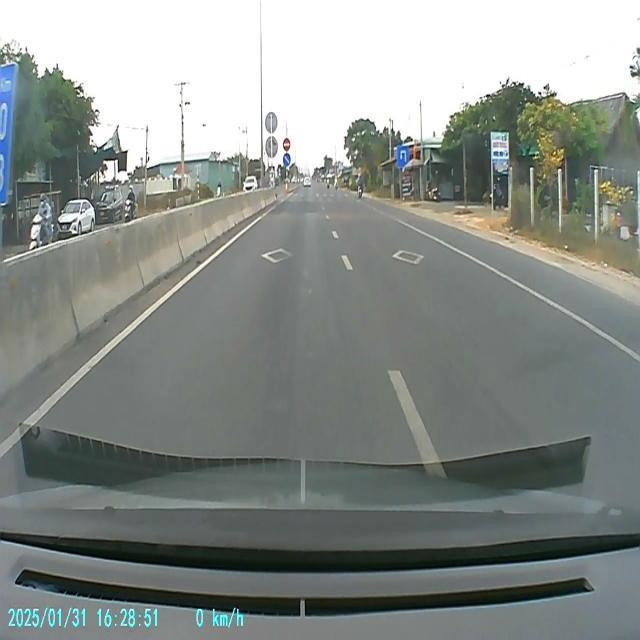102-cam-di-nguoc-chieu: (282, 138, 292, 150)
302a-huong-phai-di-vong-chuong-ngai-vat-1: (283, 154, 291, 166)
